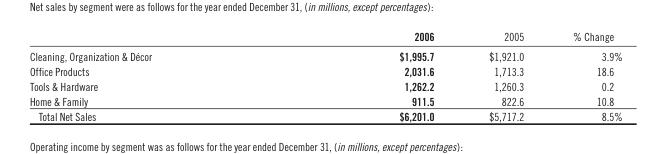table: (28, 29, 621, 122)
table column: (28, 29, 274, 122), (274, 29, 460, 122), (460, 29, 547, 122), (547, 29, 621, 122)
table column header: (28, 29, 621, 45)
table row: (28, 45, 621, 63), (28, 29, 621, 45), (28, 63, 621, 78), (28, 78, 621, 93), (28, 93, 621, 108), (28, 108, 621, 122)
